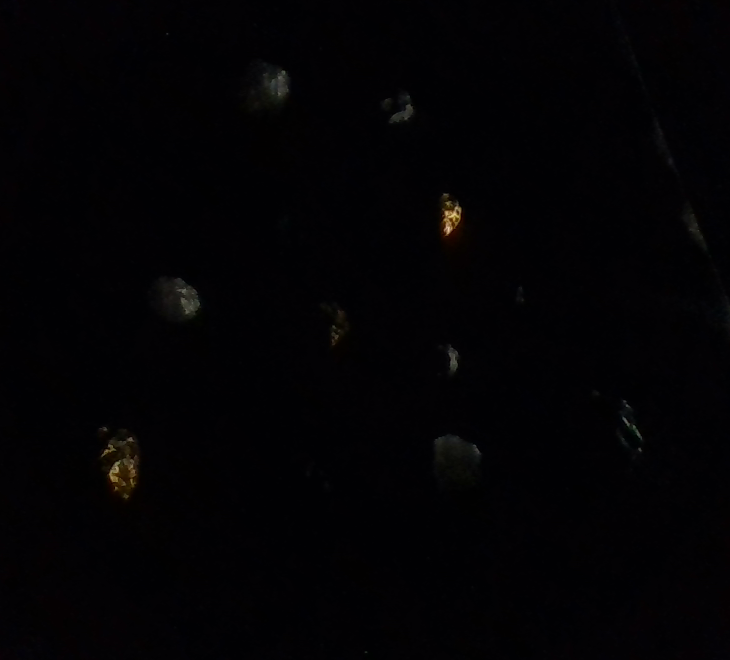anorthosite: (231, 58, 291, 116), (432, 433, 482, 492), (150, 275, 200, 322)
basalt: (242, 441, 335, 530), (245, 205, 304, 257), (489, 274, 522, 315)
metal: (53, 422, 141, 516), (300, 300, 349, 351), (415, 192, 461, 239)
regolith: (553, 389, 643, 473), (372, 86, 413, 124), (419, 342, 458, 378)
